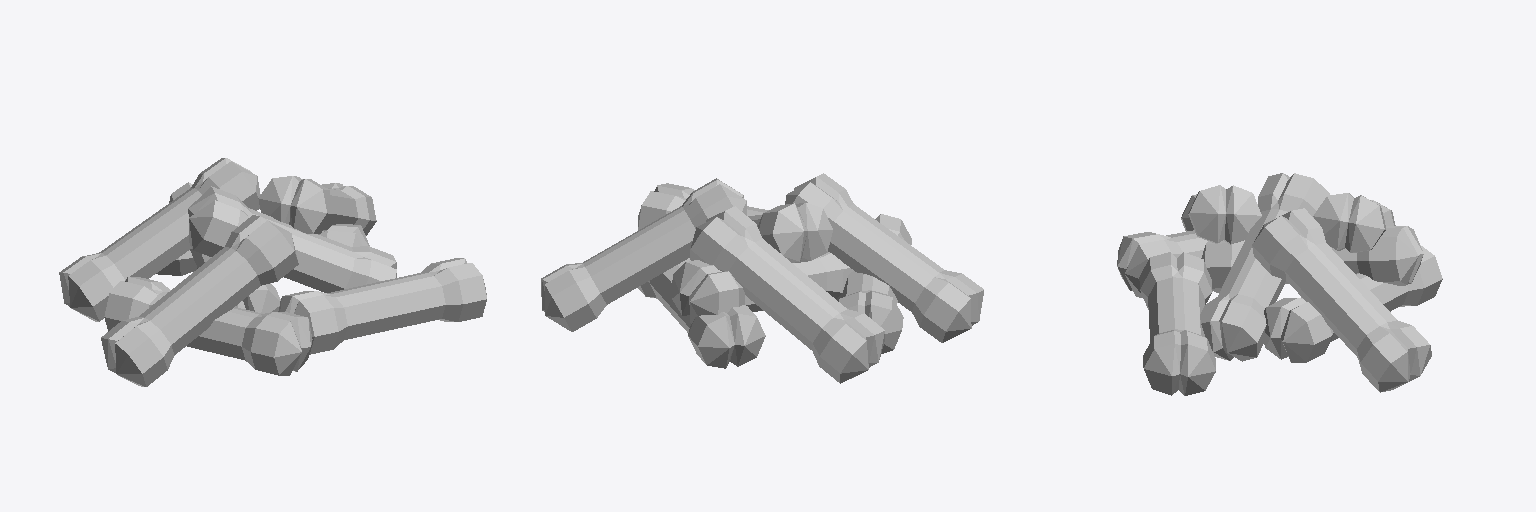
The model's file is pileDummy.obj.
The picture shows the model from 3 angles: view 1: azimuth 30°, elevation 25°; view 2: azimuth 150°, elevation 25°; view 3: azimuth 270°, elevation 25°; orthographic projection.
Visible parts, largest first — view 1: pile; view 2: pile; view 3: pile.
Boxes of the visible parts, x1,y1,x2,y2 form: pile: [59, 158, 486, 386]; pile: [541, 173, 983, 383]; pile: [1117, 173, 1442, 395].
Bounding box in the file's own units: 3.98 × 1.46 × 3.19.